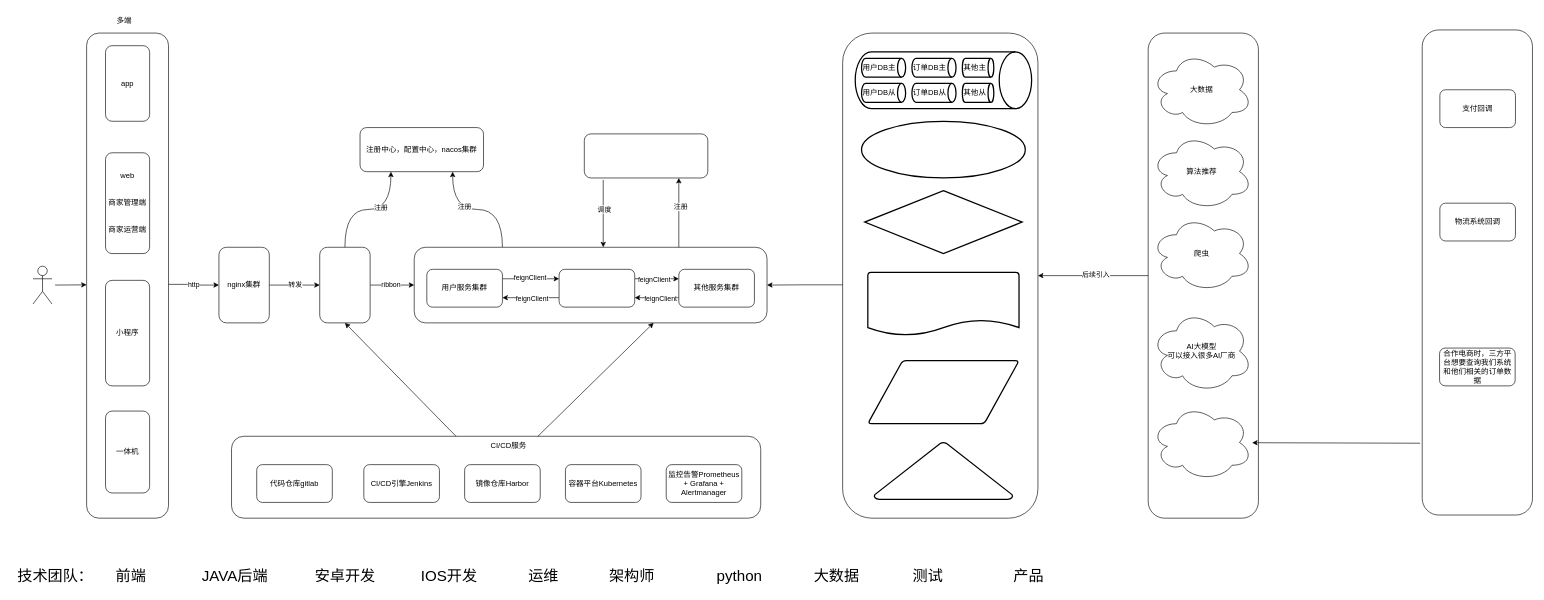
This 1544x600 diagram has some shape labels left out. The centre of each missing label's shape, as x and y in pixels:
"Actor" goes at point (42, 285).
"gateway集群" goes at point (344, 285).
"xxl-job-admin-server" goes at point (646, 155).
"云存储oss 或者自己部署hdfs" goes at point (943, 471).
"开放平台，提供api给别人的系统调用，方便别人的系统接入我们的平台" goes at point (1201, 442).
"搜索ElasticSearch集群" goes at point (943, 304).
"日志采集 Elasticsearch+Kibana+Logstash" goes at point (943, 392).
"消息中间件rocketmq集群" goes at point (943, 222).
"缓存redis集群" goes at point (943, 149).
"订单服务集群" goes at point (596, 288).
